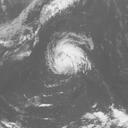cyclone: (45, 31, 95, 75)
